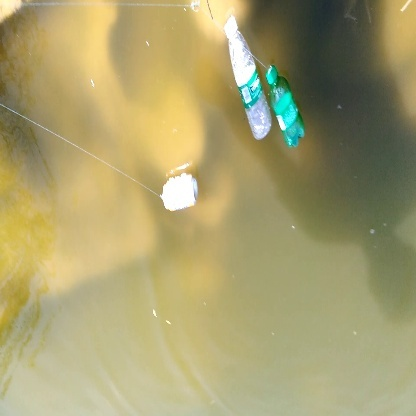bottle: (218, 15, 274, 143)
